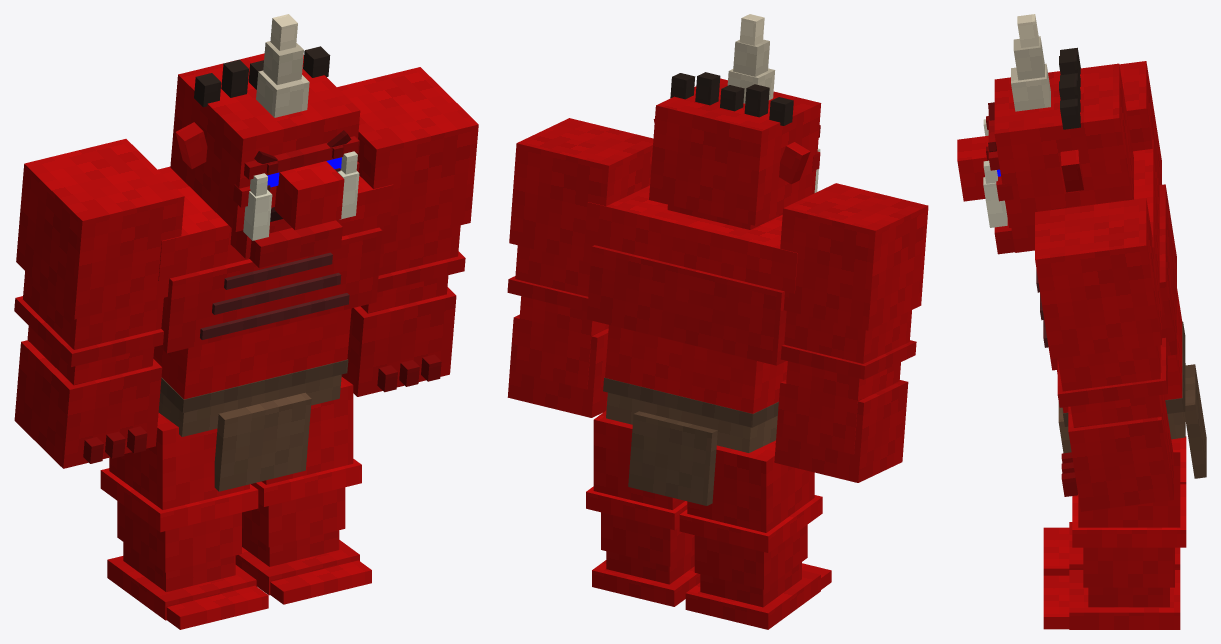
File: ogre_s0_evo1.glb
3 renders of one model, left to right at view 1: azimuth 30°, elevation 25°; view 2: azimuth 150°, elevation 25°; view 3: azimuth 270°, elevation 25°, orthographic. The views are drawn at different scales.
Visible parts, largest first — view 1: ArmR, Torso, Head, ArmL, LegR, LegL; view 2: Torso, ArmR, ArmL, Head, LegR, LegL; view 3: ArmL, Head, LegL, Torso, ArmR, LegR.
Part boxes in pixels (<box>): ArmR: <box>14,139,184,468</box>; Torso: <box>153,166,393,491</box>; Head: <box>170,14,360,267</box>; ArmL: <box>337,67,478,396</box>; LegR: <box>100,413,268,629</box>; LegL: <box>235,377,371,604</box>; Torso: <box>585,185,797,505</box>; ArmR: <box>774,183,928,482</box>; ArmL: <box>507,118,653,417</box>; Head: <box>649,14,821,229</box>; LegR: <box>679,440,831,629</box>; LegL: <box>586,410,700,606</box>; ArmL: <box>1035,198,1173,511</box>; Head: <box>957,14,1133,254</box>; LegL: <box>1043,438,1186,629</box>; Torso: <box>1036,140,1206,478</box>; ArmR: <box>1119,61,1161,184</box>; LegR: <box>1043,436,1186,575</box>.
Bounding box in the file's own units: 1.46 × 2.09 × 0.8306.
Materials: 26 (26 with a texture image).
